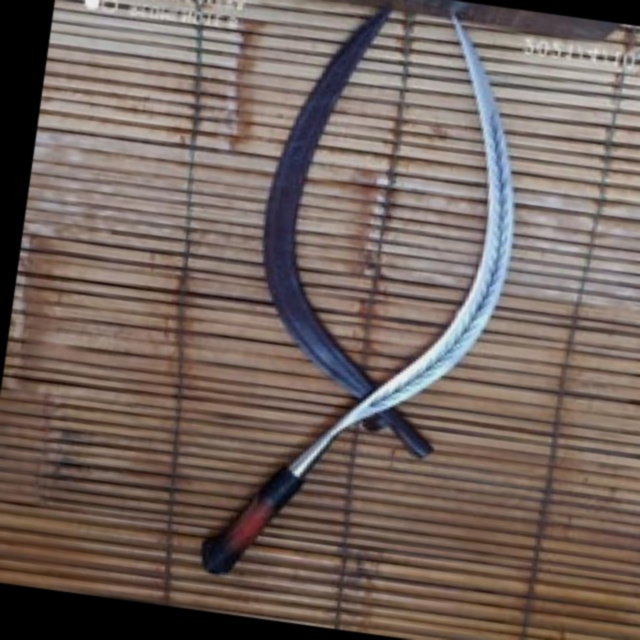Sharp-Object: (198, 0, 549, 621)
